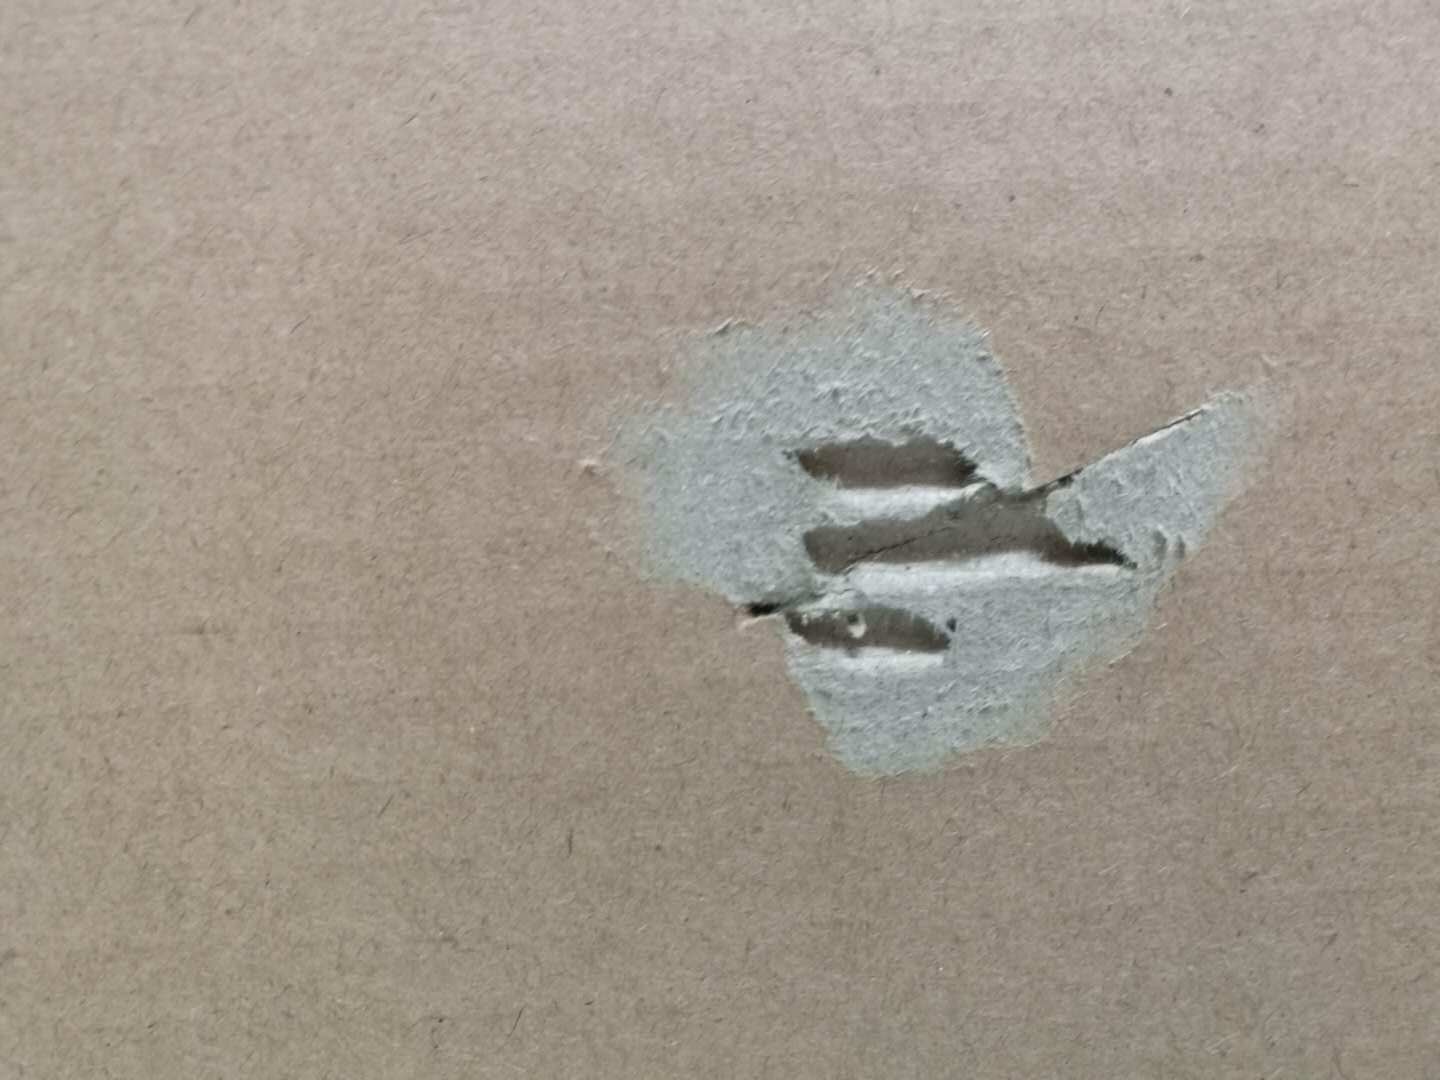defect: (540, 236, 1332, 808)
